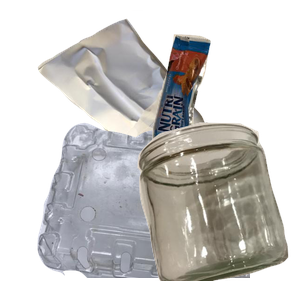glass: (135, 120, 300, 300)
paper: (35, 10, 237, 178)
plastic: (35, 120, 275, 300)
trash: (149, 31, 300, 179)
